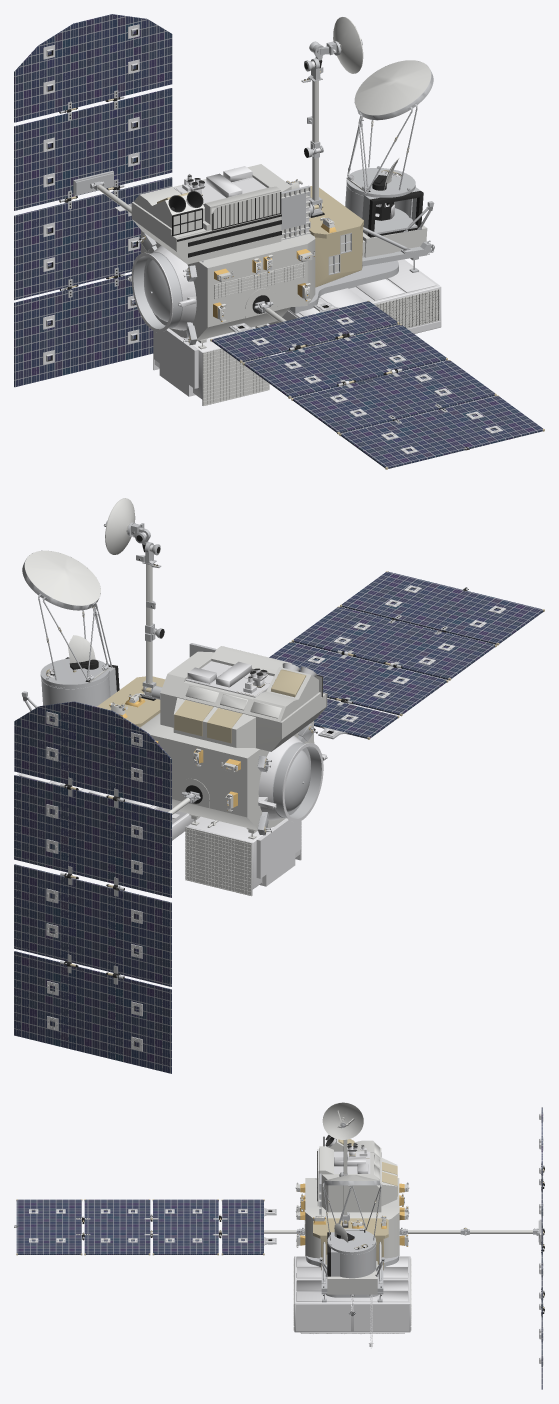
Rendered from gpm.glb.
3 views of the same model, one above another, from view 1: azimuth 30°, elevation 25°; view 2: azimuth 150°, elevation 25°; view 3: azimuth 270°, elevation 25° (orthographic). The views are drawn at different scales.
Visible parts, largest first — view 1: GPM-MainBus; view 2: GPM-MainBus; view 3: GPM-MainBus.
Part boxes in pixels (x1,y1,x2,y2): GPM-MainBus: [14, 14, 544, 469]; GPM-MainBus: [14, 498, 544, 1073]; GPM-MainBus: [14, 1102, 544, 1389].
Bounding box in the file's own units: 5.71 × 8.08 × 13.
8 materials, 1 textured.
